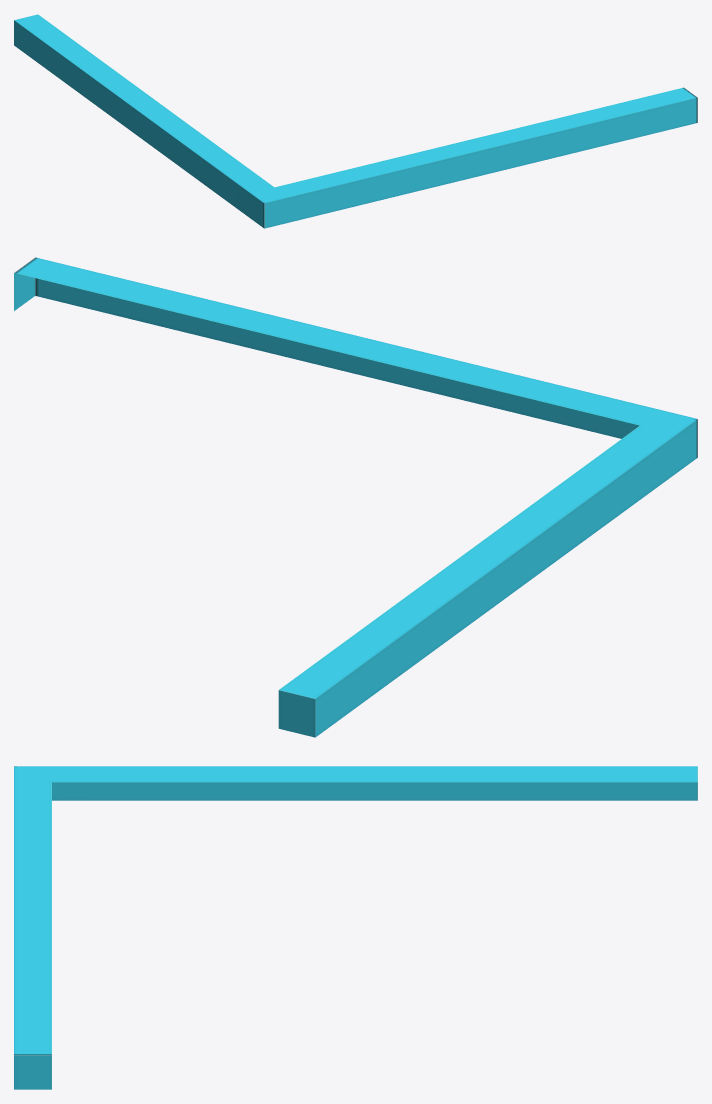
Rendered from MK_Wall_Trim_F_Corner_Out.fbx.
3 views of the same model, one above another, from view 1: azimuth 30°, elevation 25°; view 2: azimuth 150°, elevation 25°; view 3: azimuth 270°, elevation 25° (orthographic). The views are drawn at different scales.
Visible parts, largest first — view 1: Wall_Trim_F_Corner_Out; view 2: Wall_Trim_F_Corner_Out; view 3: Wall_Trim_F_Corner_Out.
Boxes of the visible parts, bbox=[...] form: Wall_Trim_F_Corner_Out: bbox=[14, 14, 697, 228]; Wall_Trim_F_Corner_Out: bbox=[14, 257, 697, 737]; Wall_Trim_F_Corner_Out: bbox=[14, 766, 697, 1089].
Size of the model in its own units: 203 by 11.25 by 202.
Materials: 1 (1 with a texture image).
